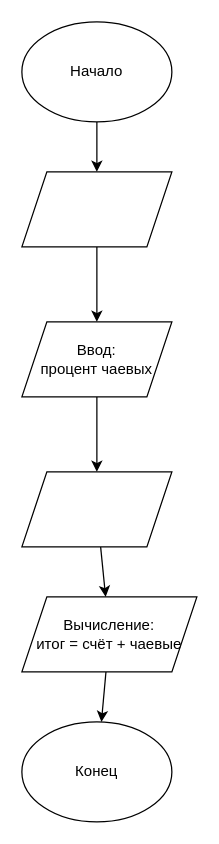
Image size: 219x844. Some labels were removed from this diagram. Each missing label, with the box of its shape:
Ввод: сумма счёта: (21, 171, 172, 247)
Вычисленпие: чаевые = счёт х процент/100: (21, 471, 172, 547)
